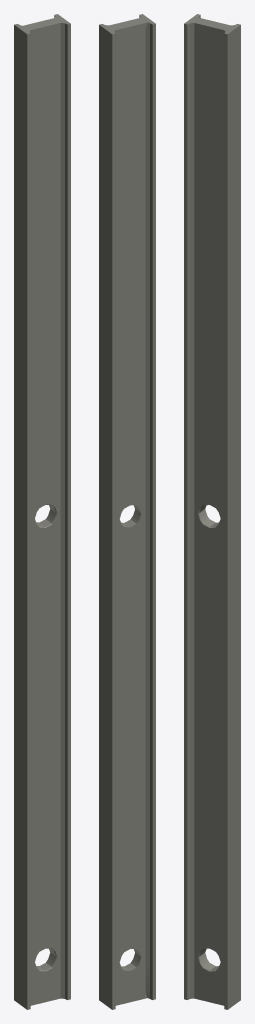
File: metal_rod_long_03.fbx
The picture shows the model from 3 angles, left to right: view 1: azimuth 30°, elevation 25°; view 2: azimuth 210°, elevation 25°; view 3: azimuth 330°, elevation 25°; orthographic projection.
Visible parts, largest first — view 1: metal_rod_long_03; view 2: metal_rod_long_03; view 3: metal_rod_long_03.
Boxes of the visible parts, box(x1,y1,x2,y2) form: metal_rod_long_03: box(14, 14, 70, 1009); metal_rod_long_03: box(99, 14, 155, 1009); metal_rod_long_03: box(184, 14, 240, 1009).
Size of the model in its own units: 21.05 by 450 by 11.05.
